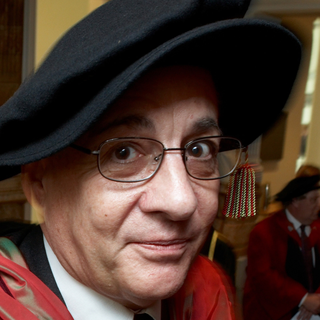eye: (184, 136, 220, 163), (106, 140, 145, 164)
